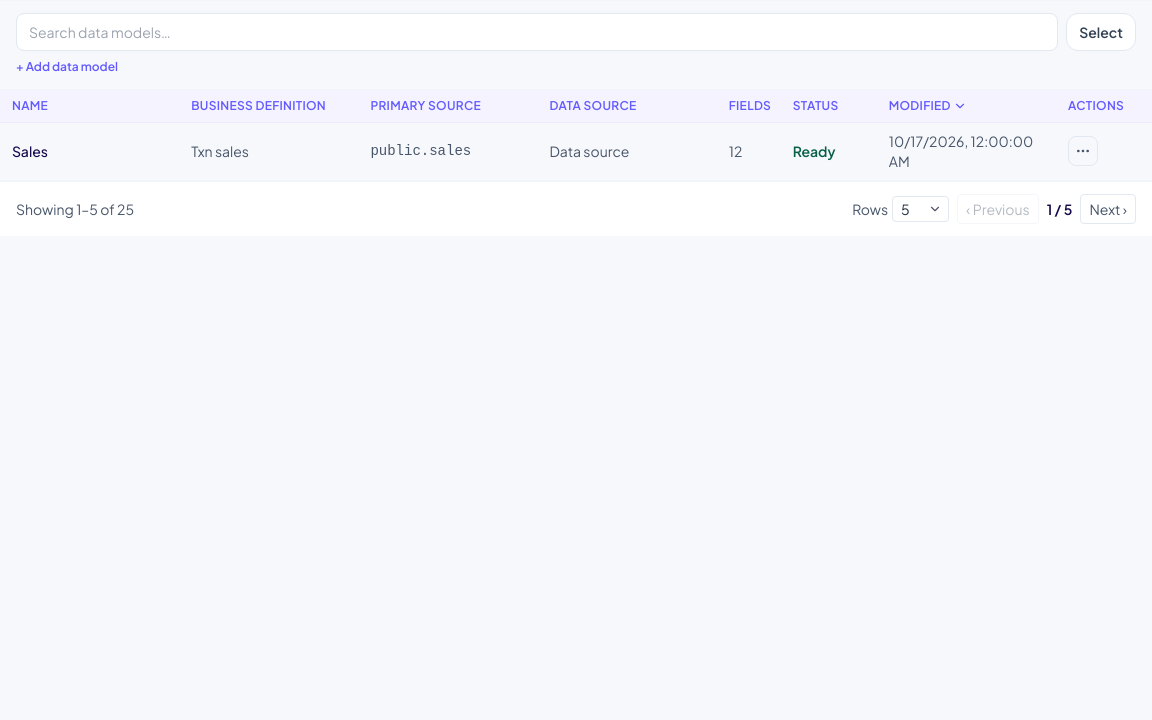
SEM-2A matrix › SEM-2A-006 Data Model edit
Expected: the text "Sales" is shown, left=0, top=122, right=179, bottom=180
Click the button named "Actions for Sales": (1083, 151) left=1068, top=136, right=1098, bottom=166
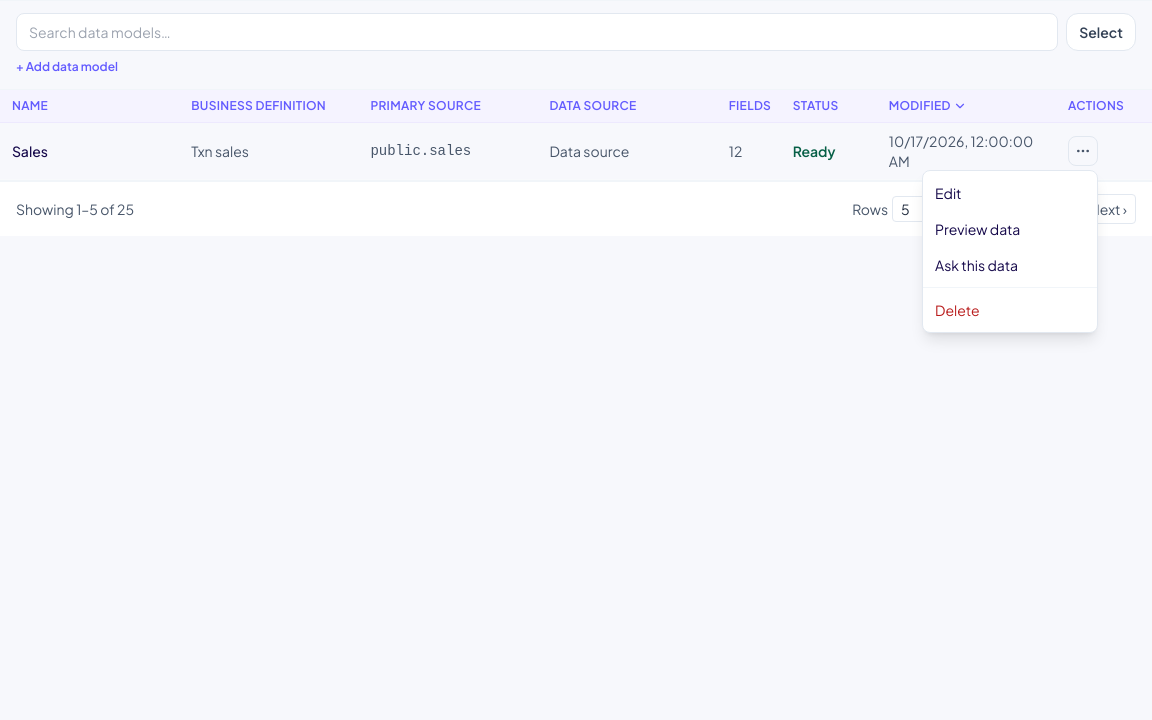
Click the menu item "Edit": (1010, 193) left=923, top=175, right=1097, bottom=211
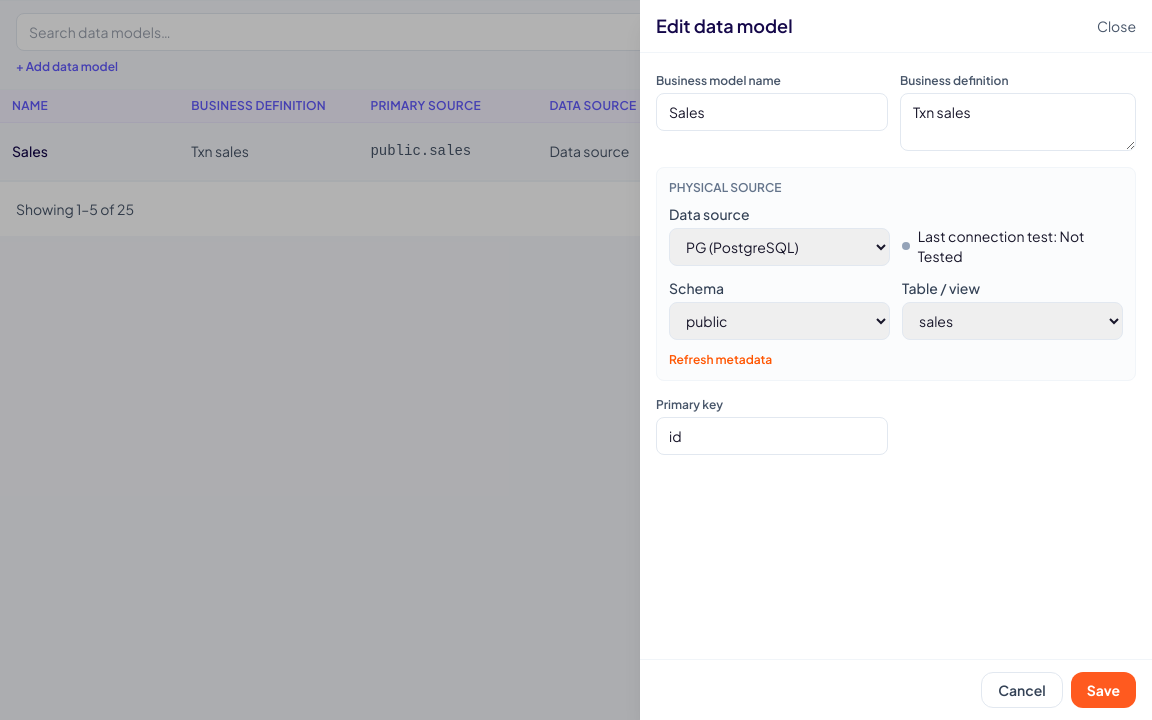
Expected: the heading "Edit data model" is shown, left=656, top=12, right=793, bottom=40
